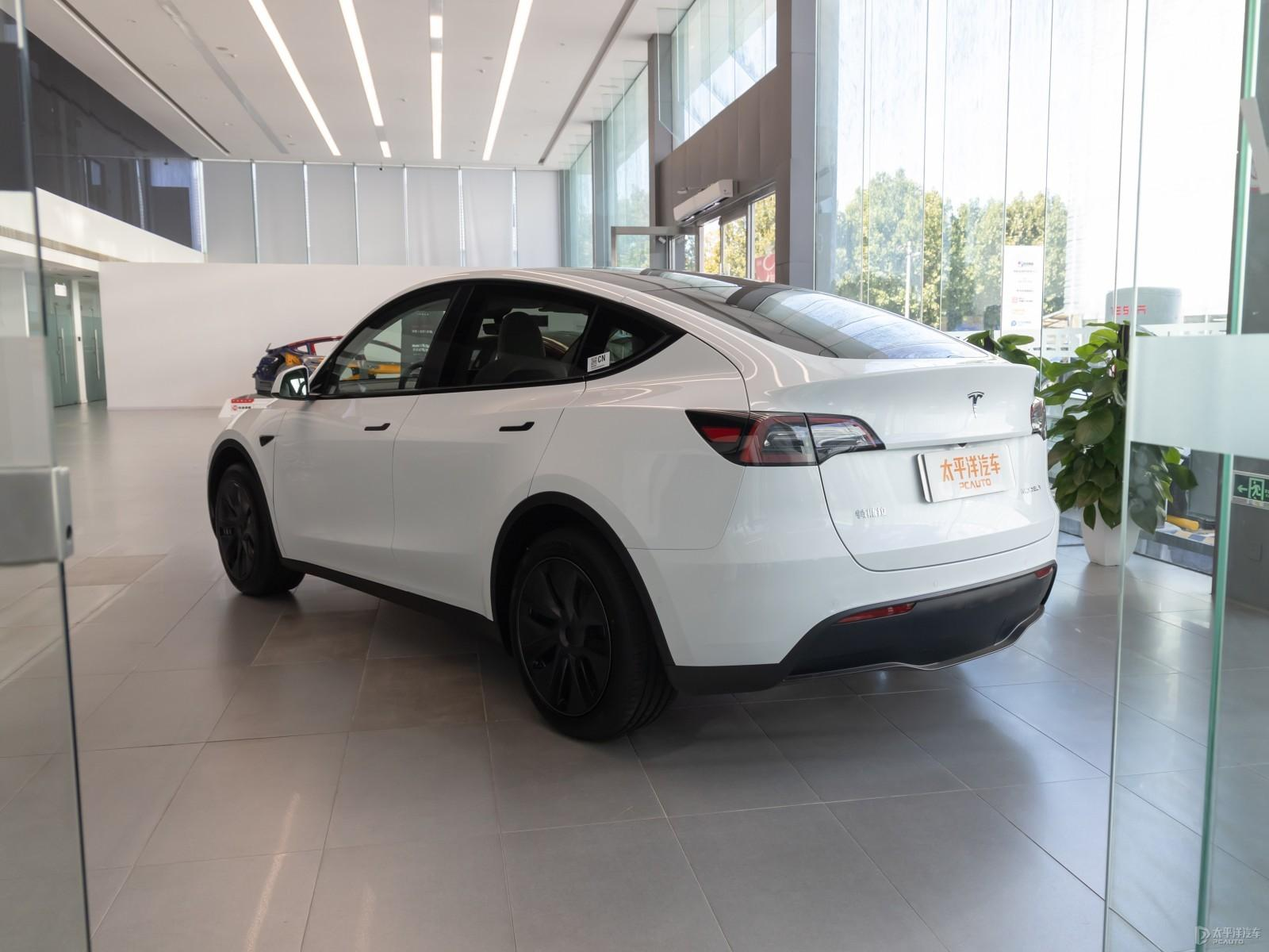Tesla: (966, 390, 985, 421)
